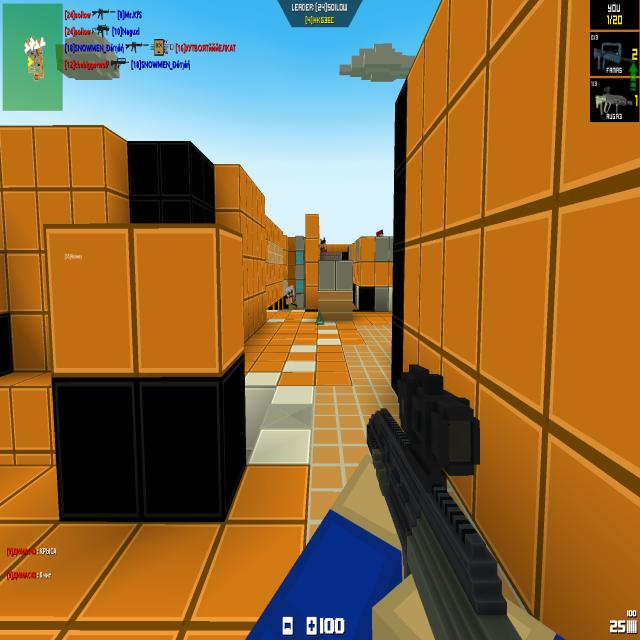enemy: (285, 285, 298, 311), (320, 237, 327, 252)
